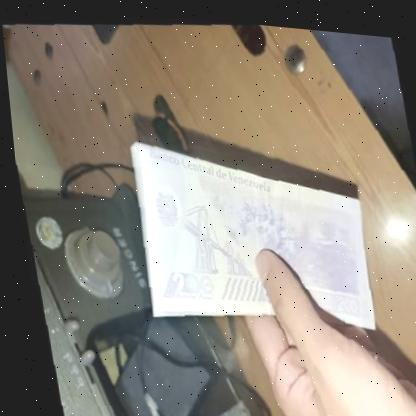two_hundred-back-vef: (119, 122, 379, 338)
